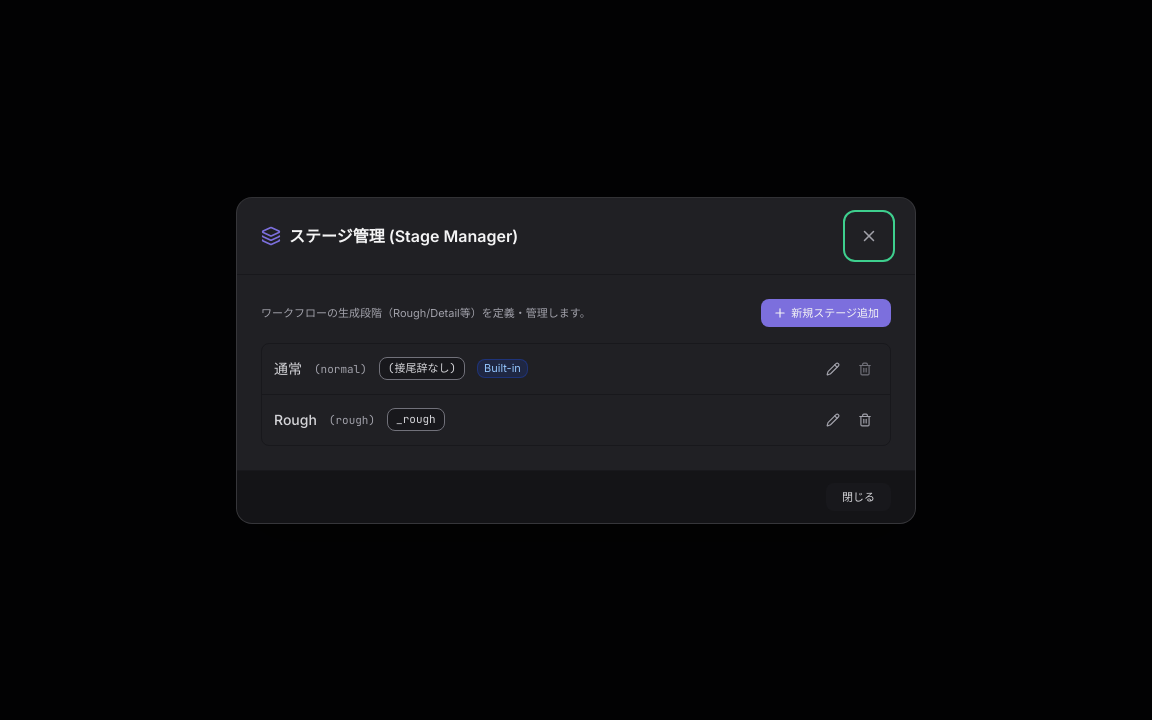
Test: StageManagerModal › [REQ-365/AC-9] inline delete guard and add form stay inside the single dialog
The width and height of the screenshot is (1152, 720).
Expected: the dialog "ステージ管理" is shown, [236,196,916,524]
Click the button named "通常 を削除": (865, 368) [852,356,878,382]
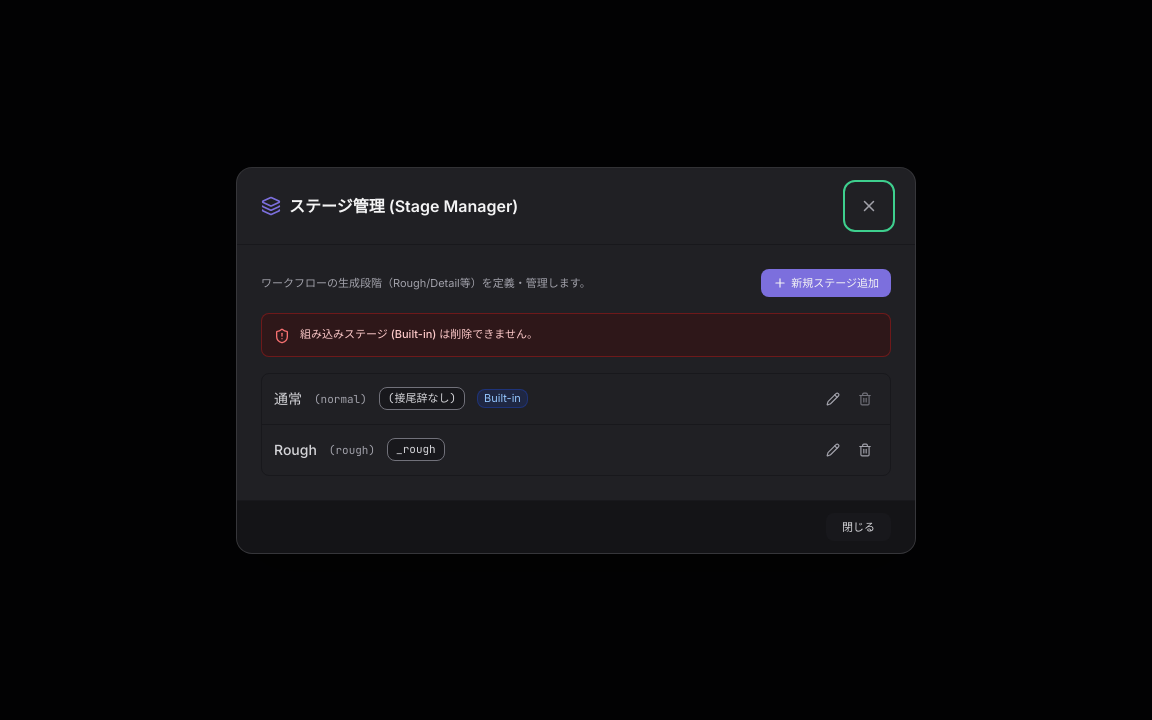
Expected: the number of dialogs is 1, [236,166,916,554]
Now the text "組み込みステージ (Built-in) は削除できません。" is shown, box [300,326,538,340]
Click the button "新規ステージ追加": (826, 282) [761,268,891,296]
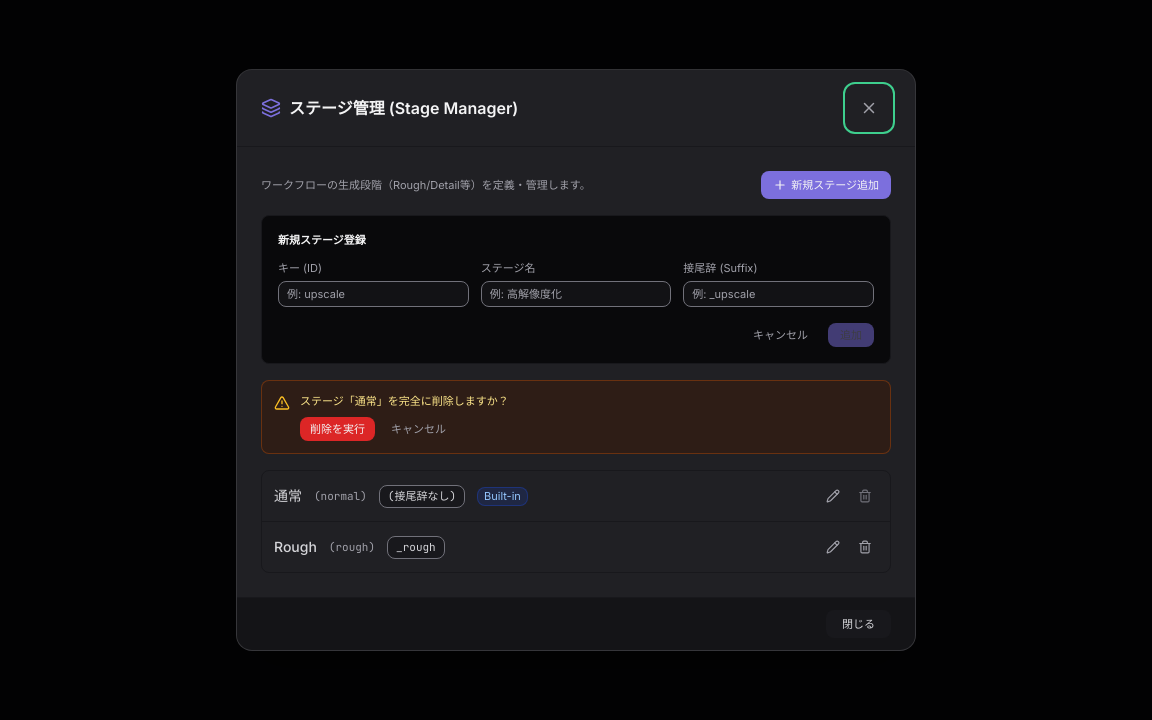
Expected: the number of dialogs is 1, [236,69,916,651]
Now the heading "新規ステージ登録" is shown, box [278,233,366,247]
